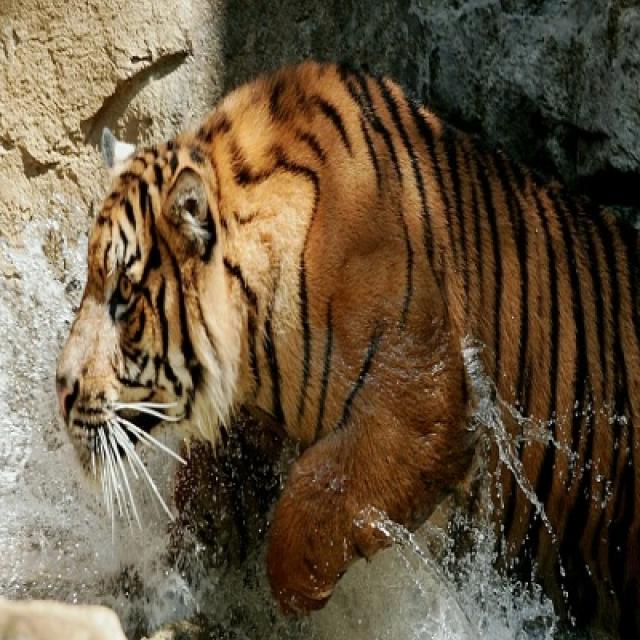Tiger: (58, 61, 638, 638)
